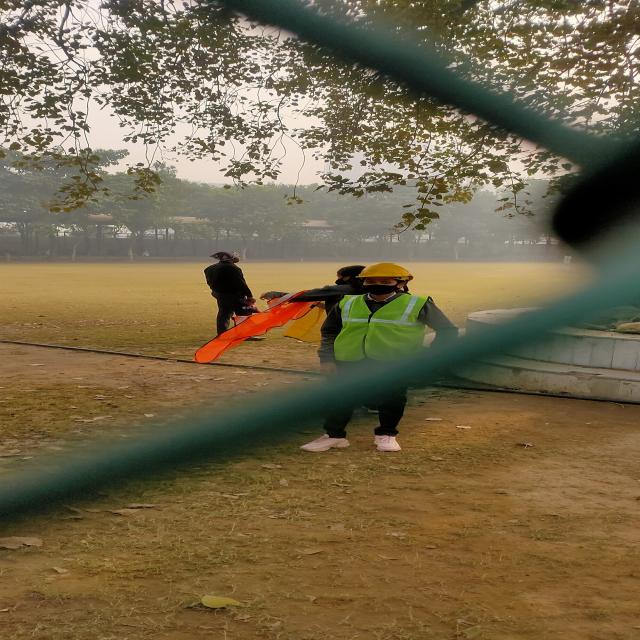safe: (328, 264, 428, 454)
unsafe: (189, 250, 276, 355)
